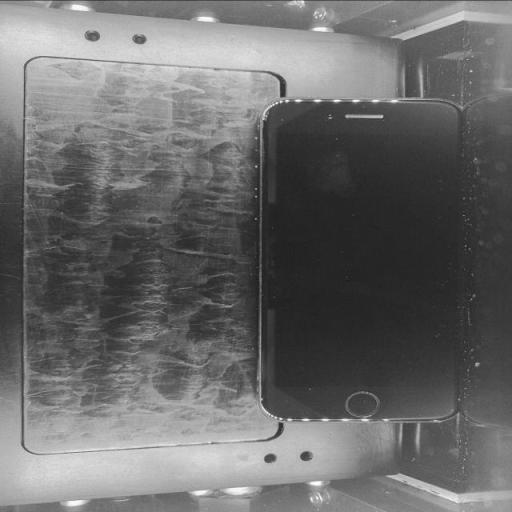phone: (263, 99, 468, 415)
